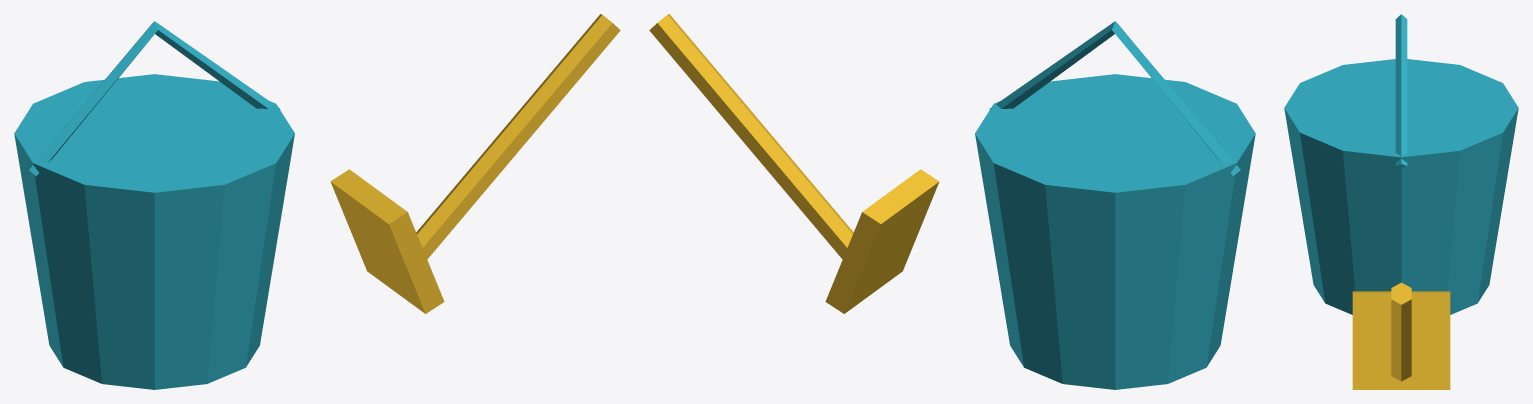
The model's file is Prop_BucketSpade.fbx.
3 views of the same model, side by side, from view 1: azimuth 30°, elevation 25°; view 2: azimuth 150°, elevation 25°; view 3: azimuth 270°, elevation 25° (orthographic). The views are drawn at different scales.
Parts seen in each view (by area): view 1: Prop_BucketSpade.001; view 2: Prop_BucketSpade.001; view 3: Prop_BucketSpade.001.
Part boxes in pixels (x1,y1,x2,y2): Prop_BucketSpade.001: (14, 14, 620, 389); Prop_BucketSpade.001: (649, 14, 1255, 389); Prop_BucketSpade.001: (1284, 14, 1518, 389).
Size of the model in its own units: 0.5821 by 0.3119 by 0.24.
